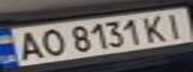1: (121, 16, 145, 45), (87, 20, 109, 50)
3: (103, 18, 127, 48)
8: (66, 23, 90, 53)
A: (9, 28, 45, 62)
I: (160, 10, 193, 39)
K: (139, 11, 172, 43)
O: (33, 26, 69, 57)
